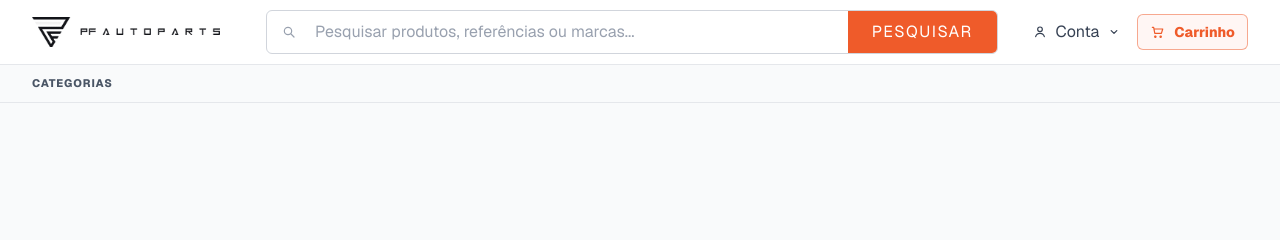
it: SiteHeader › mostra utilizador autenticado dentro do menu de conta
Step 1. Click the button "Conta" → [1076, 32], box [1022,14,1131,50]
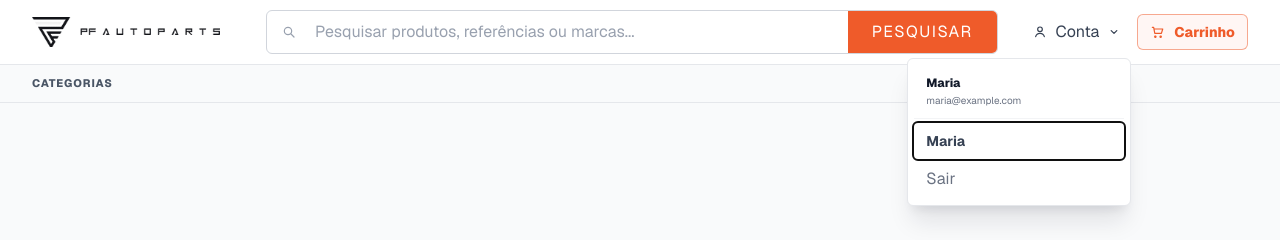
Expected: the menu item "Sair" is shown, [914,159,1124,199]
